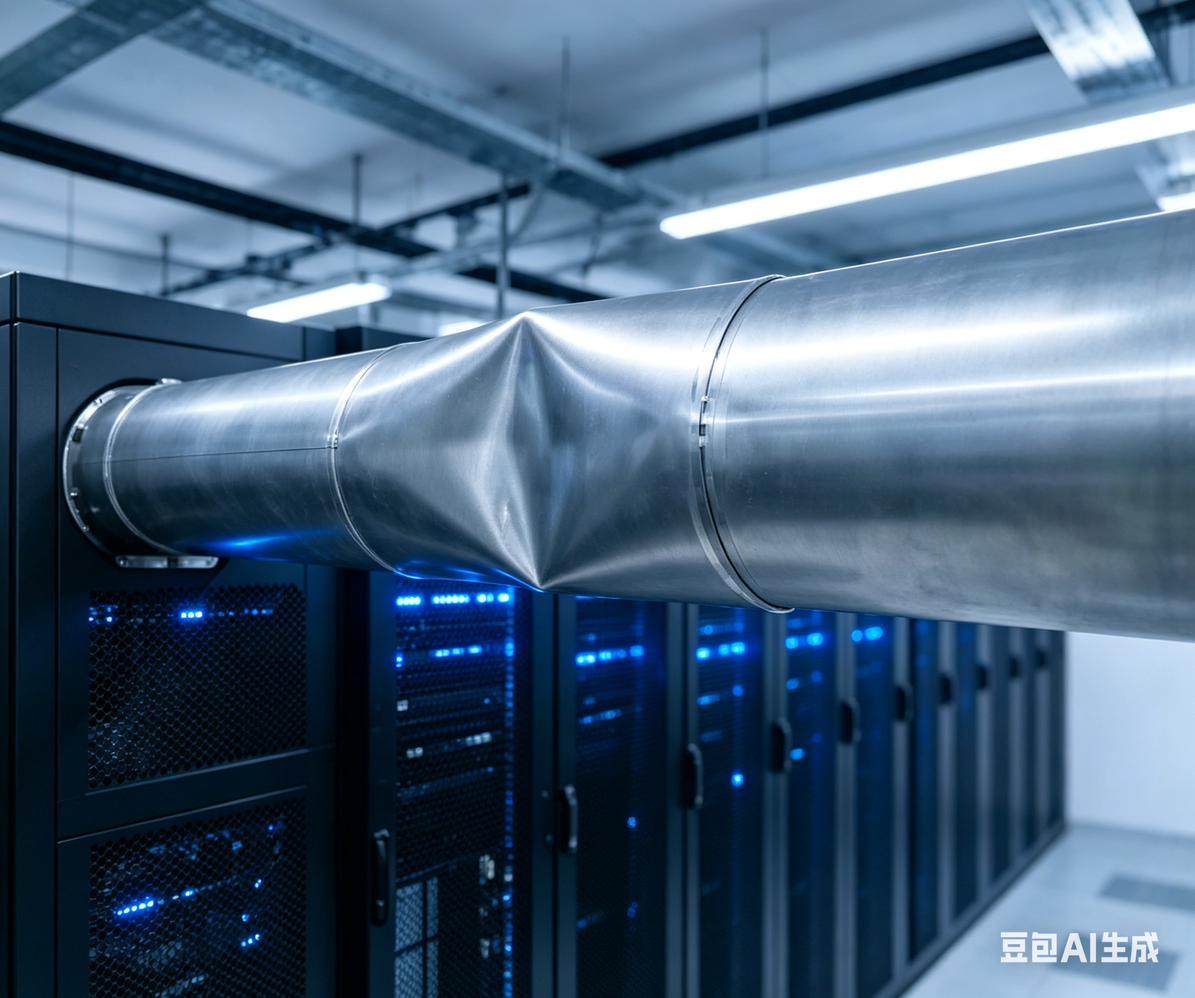Leakage: (402, 299, 668, 598)
